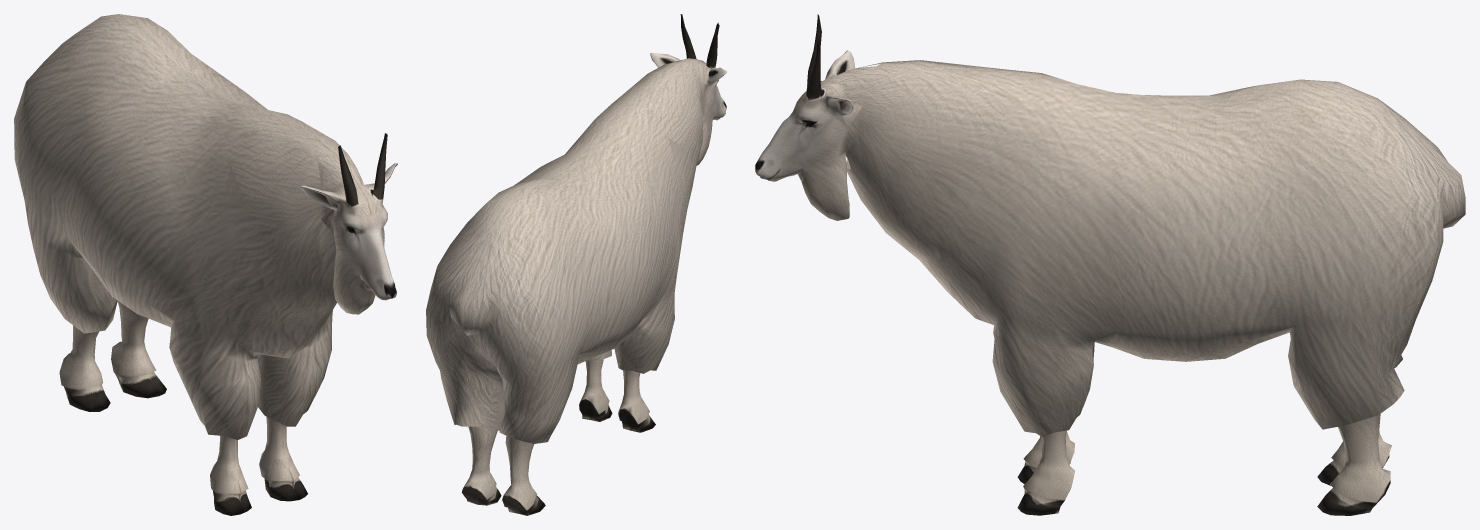
The picture shows the model from 3 angles, left to right: view 1: azimuth 30°, elevation 25°; view 2: azimuth 150°, elevation 25°; view 3: azimuth 270°, elevation 25°; orthographic projection. The views are drawn at different scales.
Parts seen in each view (by area): view 1: Mesh_0; view 2: Mesh_0; view 3: Mesh_0.
Boxes of the visible parts, x1,y1,x2,y2 form: Mesh_0: (14, 14, 397, 515); Mesh_0: (426, 14, 726, 515); Mesh_0: (755, 14, 1465, 515).
Size of the model in its own units: 32.42 by 72.66 by 100.
1 material, 1 textured.
